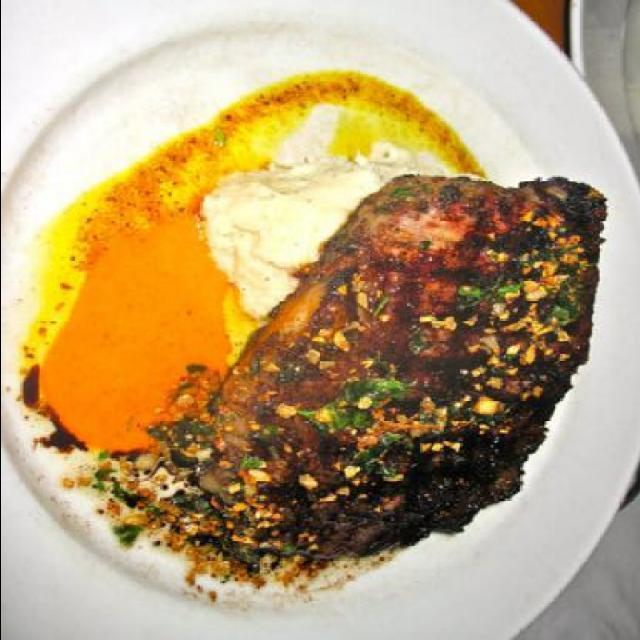Steak: (102, 140, 600, 564)
